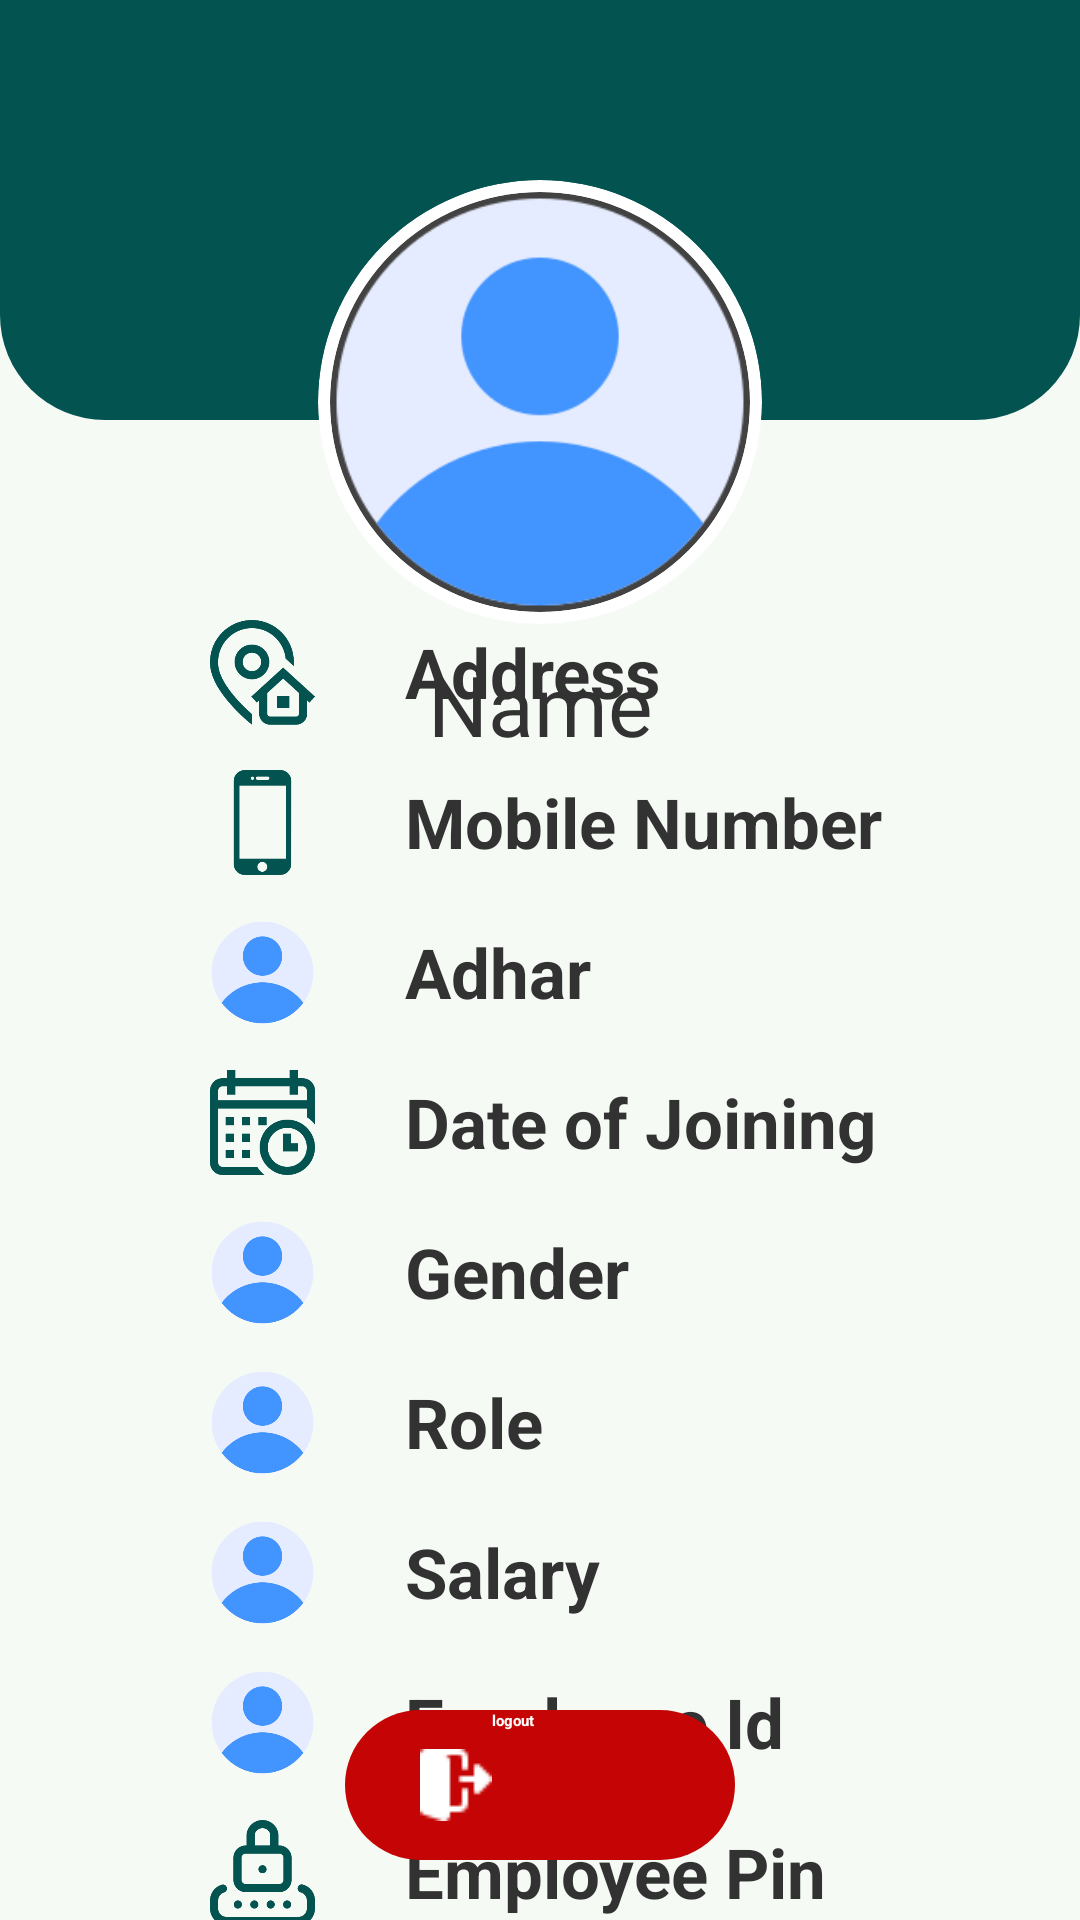

Icons on this 1080×1920 Android screen, each with its box as (x1, y1, x2, y2):
calendar: (210, 1070, 315, 1175)
pincode: (210, 1820, 315, 1920)
smartphone: (233, 770, 292, 875)
